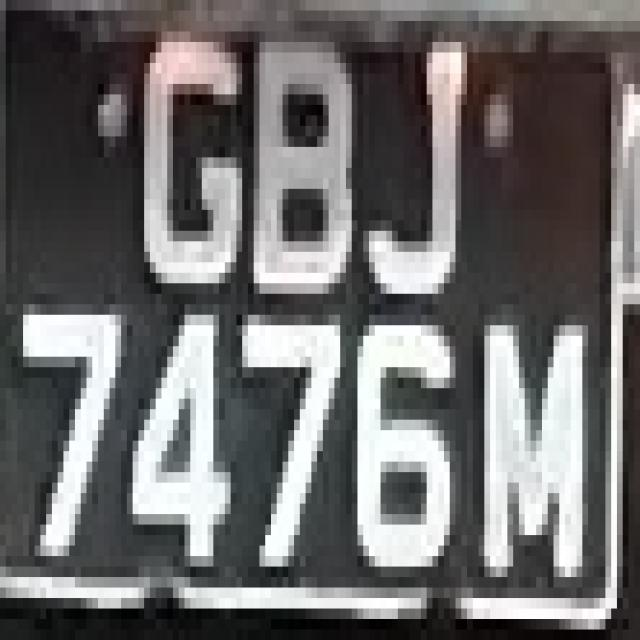4: (121, 273, 242, 598)
6: (334, 294, 478, 619)
7: (219, 273, 346, 619), (6, 283, 138, 598)
B: (242, 11, 363, 326)
G: (127, 0, 254, 304)
J: (352, 21, 478, 325)
M: (478, 294, 606, 619)
